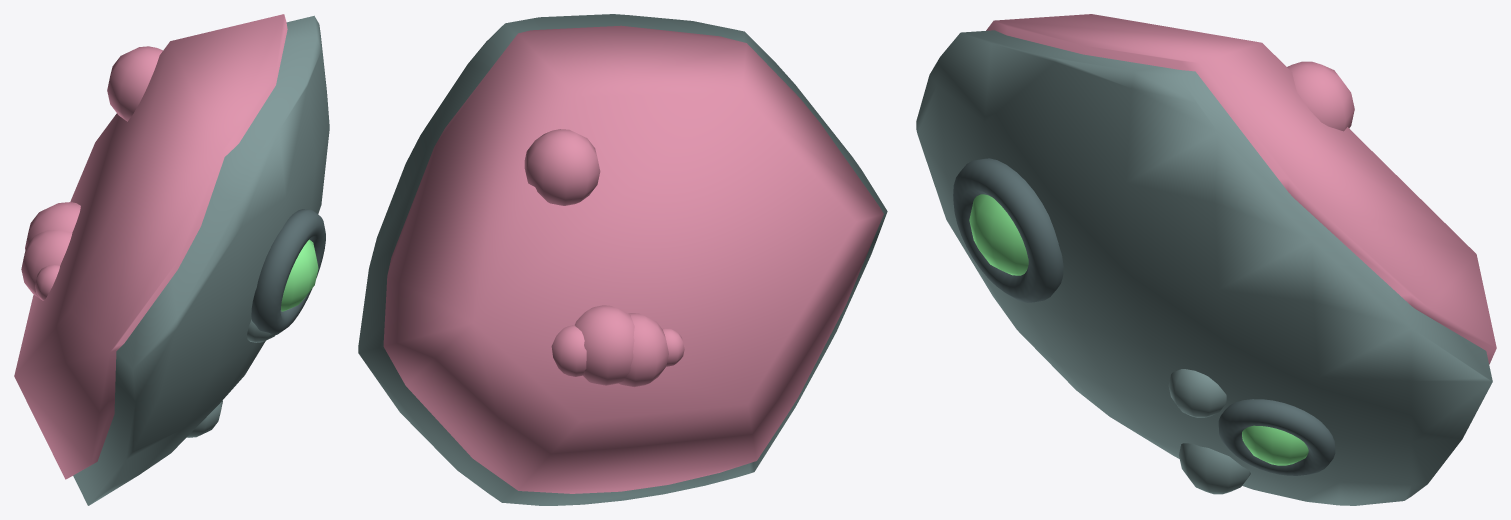
The model's file is chunk5.glb.
3 renders of one model, left to right at view 1: azimuth 30°, elevation 25°; view 2: azimuth 150°, elevation 25°; view 3: azimuth 270°, elevation 25°, orthographic. The views are drawn at different scales.
Parts seen in each view (by area): view 1: flesh, skin, lip, glow; view 2: flesh, skin; view 3: skin, flesh, lip, glow.
Boxes of the visible parts, left/top/right/bottom form: flesh: left=14, top=14, right=287, bottom=479; skin: left=73, top=15, right=329, bottom=505; lip: left=251, top=209, right=325, bottom=334; glow: left=281, top=239, right=318, bottom=311; flesh: left=383, top=25, right=883, bottom=493; skin: left=358, top=14, right=887, bottom=505; skin: left=916, top=30, right=1492, bottom=505; flesh: left=986, top=14, right=1496, bottom=364; lip: left=953, top=158, right=1335, bottom=475; glow: left=969, top=194, right=1308, bottom=465.
Bounding box in the file's own units: 1.02 × 1.2 × 1.24.
